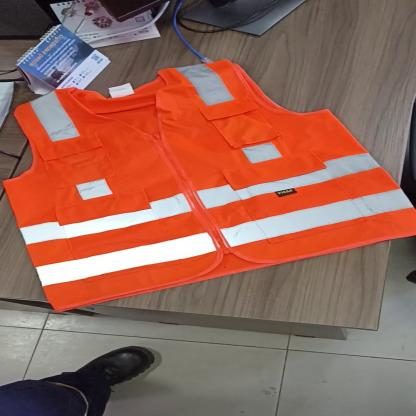colete: (0, 58, 416, 314)
